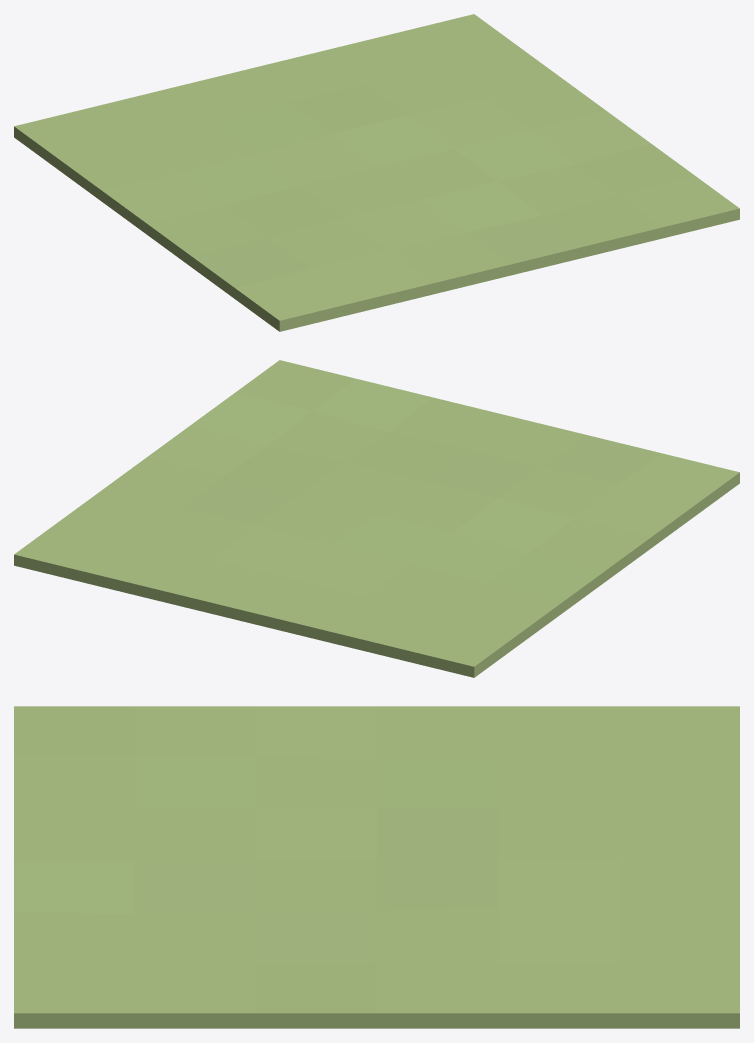
The model's file is Plains I.fbx.
The picture shows the model from 3 angles, top to bottom: view 1: azimuth 30°, elevation 25°; view 2: azimuth 150°, elevation 25°; view 3: azimuth 270°, elevation 25°; orthographic projection. The views are drawn at different scales.
Visible parts, largest first — view 1: Plains I; view 2: Plains I; view 3: Plains I.
Boxes of the visible parts, x1,y1,x2,y2 form: Plains I: (14,14,739,331); Plains I: (14,360,739,677); Plains I: (14,706,739,1028).
Bounding box in the file's own units: 1600 × 43.42 × 1600.
